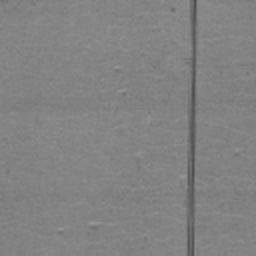Scratches: (186, 0, 197, 256)
